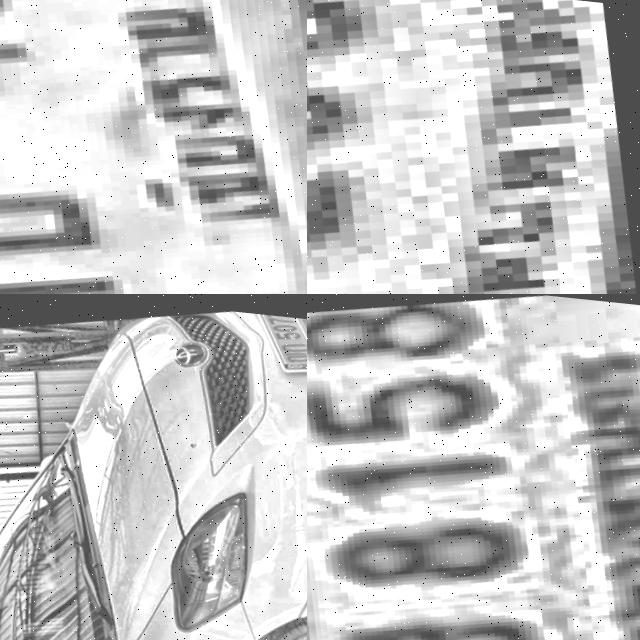license-plate: (307, 294, 640, 640), (307, 0, 640, 294), (0, 0, 307, 294), (242, 306, 307, 385)
